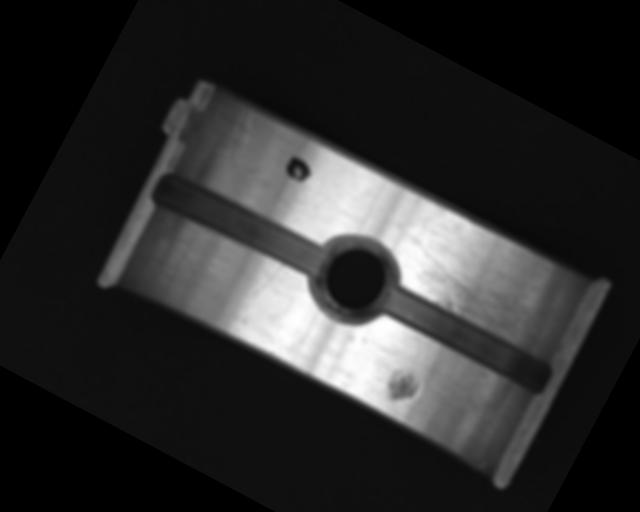blot: (281, 153, 316, 186)
bruise: (381, 363, 424, 408)
gap: (146, 163, 335, 291), (374, 279, 556, 399)
hole: (298, 223, 412, 339)
nick: (242, 256, 284, 316)
scratch: (387, 221, 577, 364)
